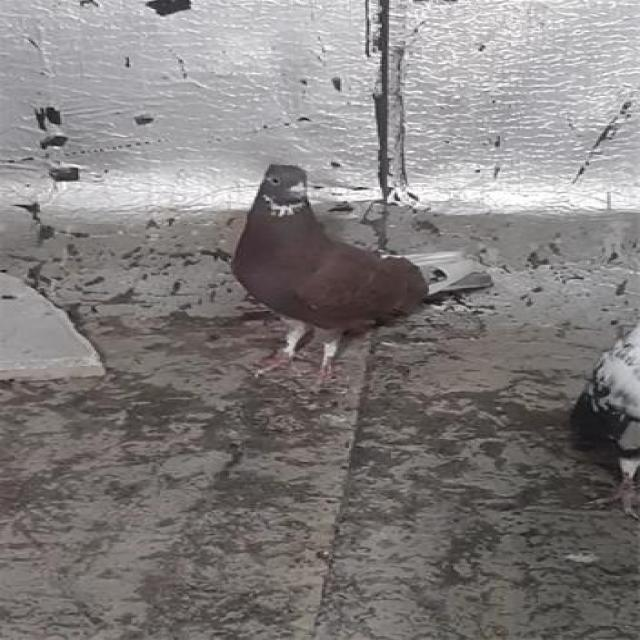bird: (216, 161, 504, 386)
